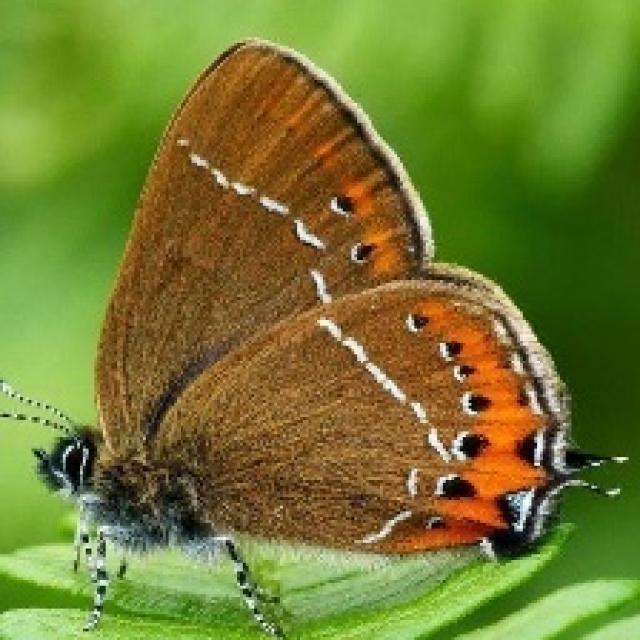butterfly: (0, 34, 629, 637)
